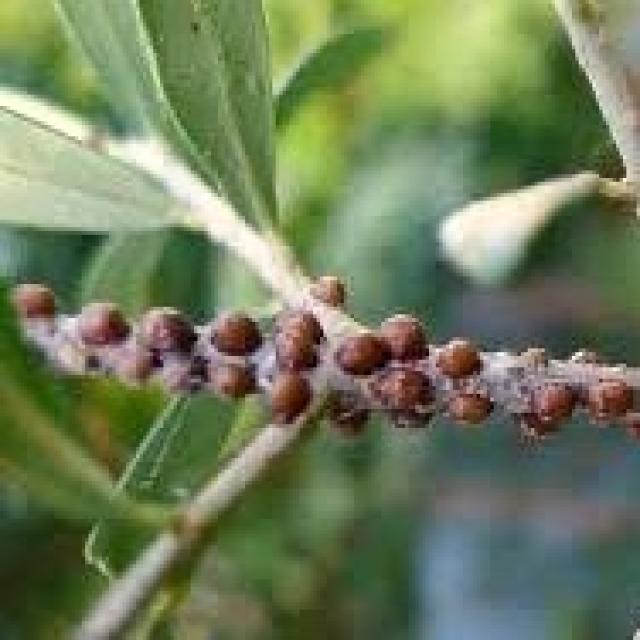Black Scale: (14, 268, 637, 446)
